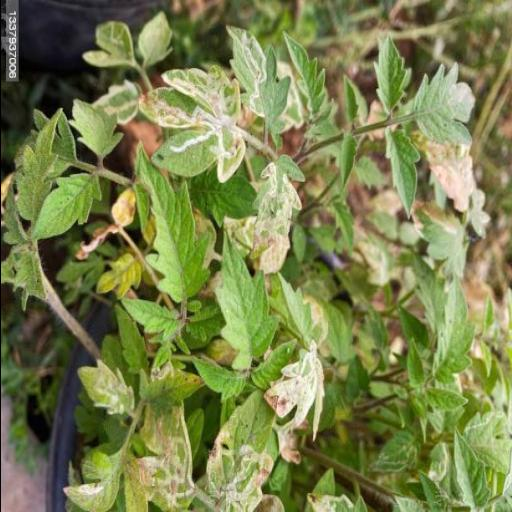Healthy: (143, 142, 213, 304), (213, 227, 279, 371), (382, 128, 420, 220), (371, 30, 409, 116)
Leaf Miner: (137, 60, 244, 184), (206, 388, 276, 512), (223, 24, 291, 136), (249, 152, 307, 278), (138, 398, 200, 512), (264, 342, 326, 428), (76, 356, 134, 417)
